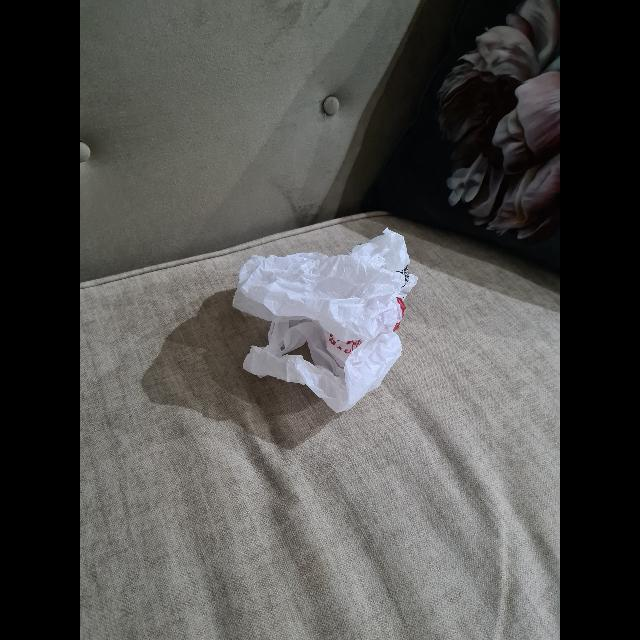plastic_bag: (222, 230, 418, 406)
